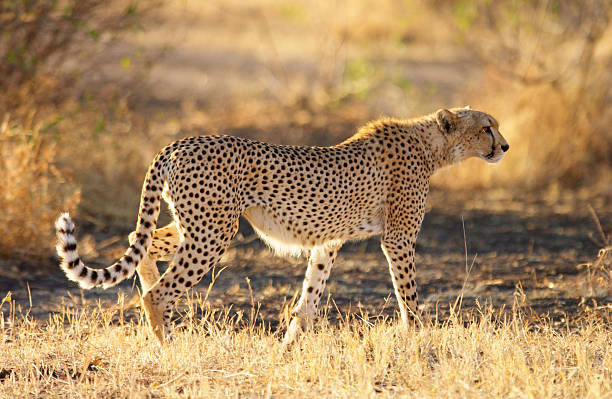cheetah: (429, 94, 517, 174)
